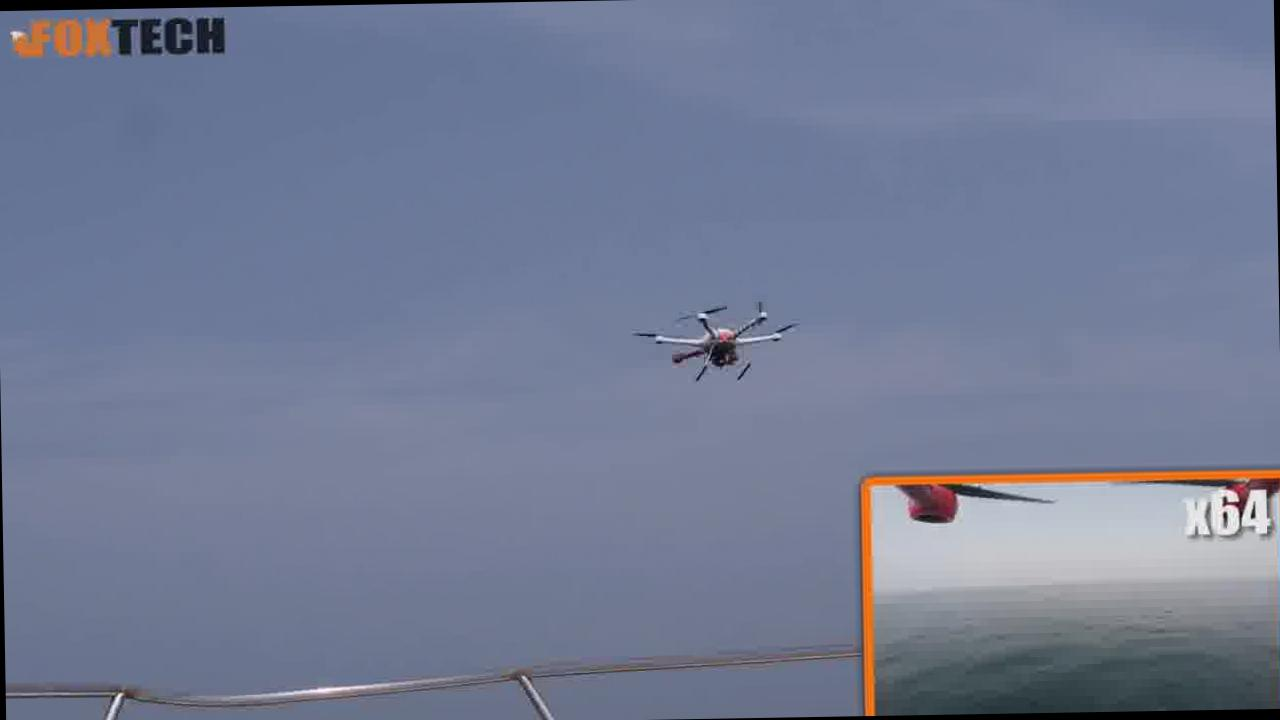drone: (622, 281, 814, 400)
